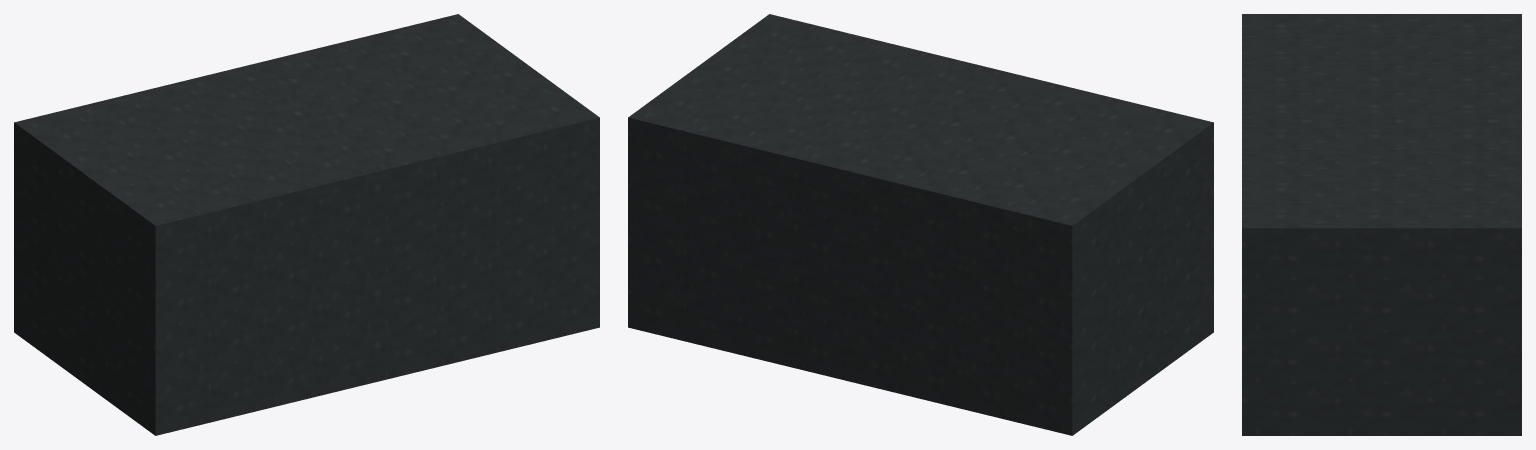
File: squidgame_background_map4.fbx
The picture shows the model from 3 angles, left to right: view 1: azimuth 30°, elevation 25°; view 2: azimuth 150°, elevation 25°; view 3: azimuth 270°, elevation 25°; orthographic projection.
Visible parts, largest first — view 1: squidgame_background_map4; view 2: squidgame_background_map4; view 3: squidgame_background_map4.
Boxes of the visible parts, x1=… form: squidgame_background_map4: x1=14, y1=14, x2=599, y2=435; squidgame_background_map4: x1=628, y1=14, x2=1213, y2=435; squidgame_background_map4: x1=1242, y1=14, x2=1521, y2=435.
Bounding box in the file's own units: 39.85 × 18 × 21.97.
